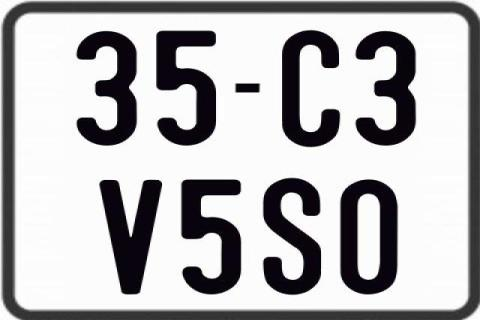0: (153, 29, 219, 149), (76, 29, 140, 147), (353, 32, 417, 146), (178, 179, 239, 295), (337, 177, 395, 292)
C: (281, 30, 341, 152)
S: (260, 175, 320, 292)
V: (100, 179, 168, 293)
